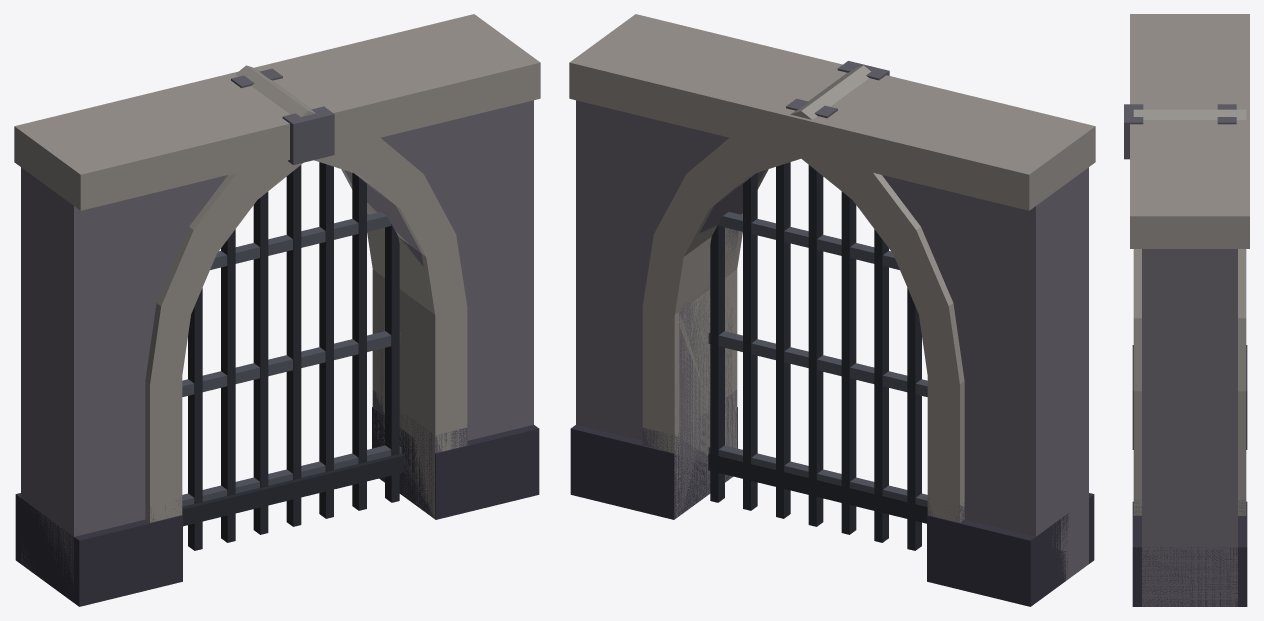
The model's file is wall_arch_gate.fbx.
The picture shows the model from 3 angles, left to right: view 1: azimuth 30°, elevation 25°; view 2: azimuth 150°, elevation 25°; view 3: azimuth 270°, elevation 25°; orthographic projection. The views are drawn at different scales.
Visible parts, largest first — view 1: wall_arch_gate; view 2: wall_arch_gate; view 3: wall_arch_gate.
Part boxes in pixels (bbox=[...]): wall_arch_gate: bbox=[14, 14, 540, 606]; wall_arch_gate: bbox=[569, 14, 1095, 606]; wall_arch_gate: bbox=[1124, 14, 1249, 606].
Bounding box in the file's own units: 4 × 3.65 × 1.05.
